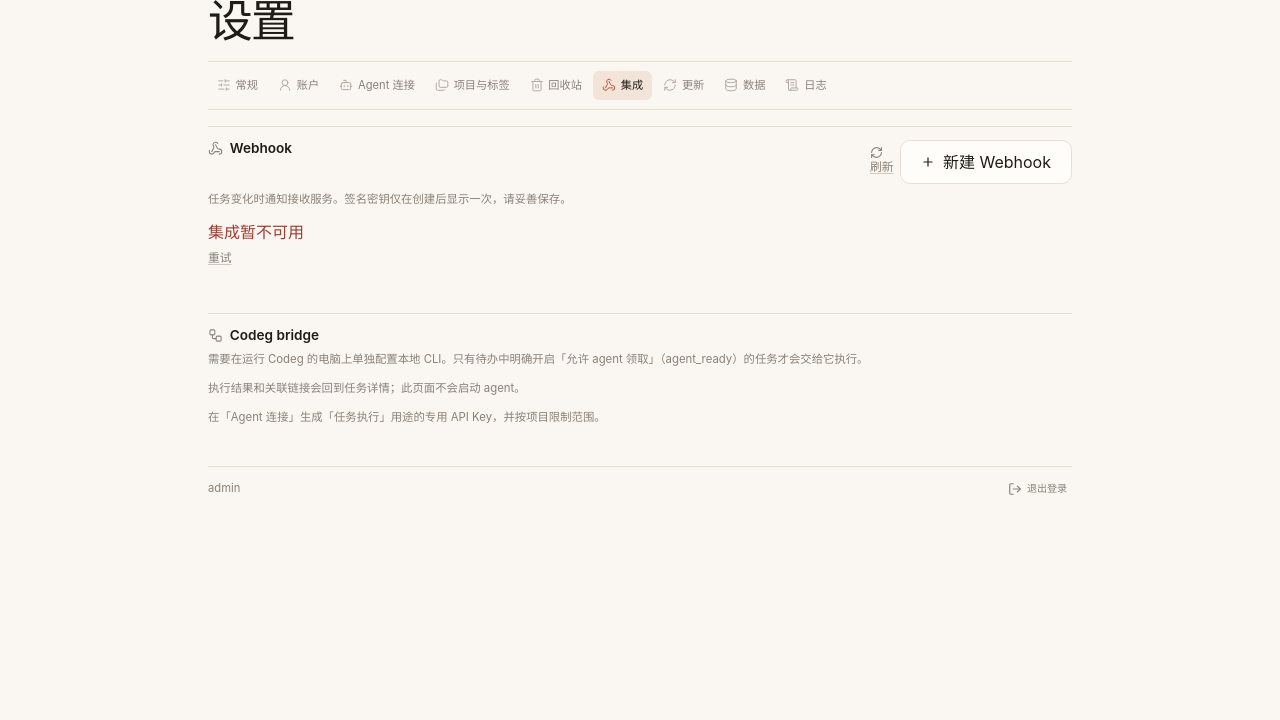
Test: recovers list errors and shows delivery retry status without inventing retry endpoints
This screenshot has width=1280, height=720.
Expected: the message shows "集成暂不可用", [208,222,304,242]
Click the button "重试": click(220, 259) [208,250,232,268]
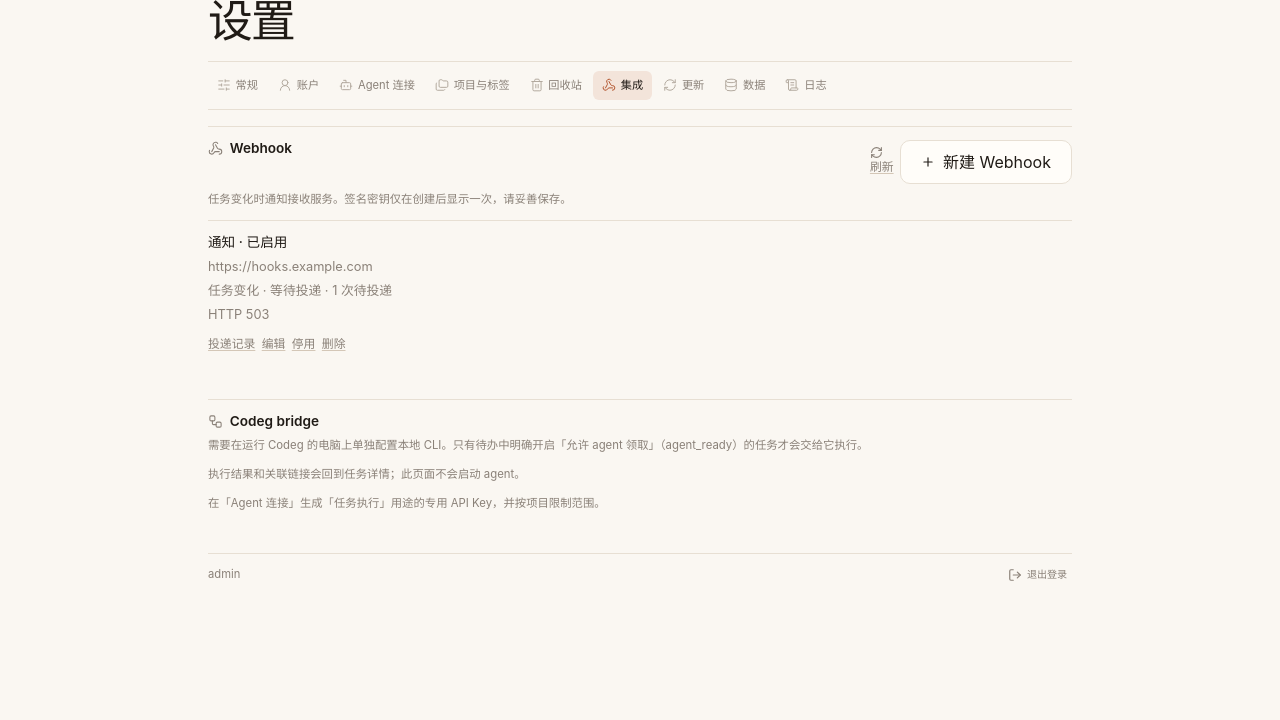
Click the button with aria-label "投递记录 通知": click(232, 345) [208,336,255,354]
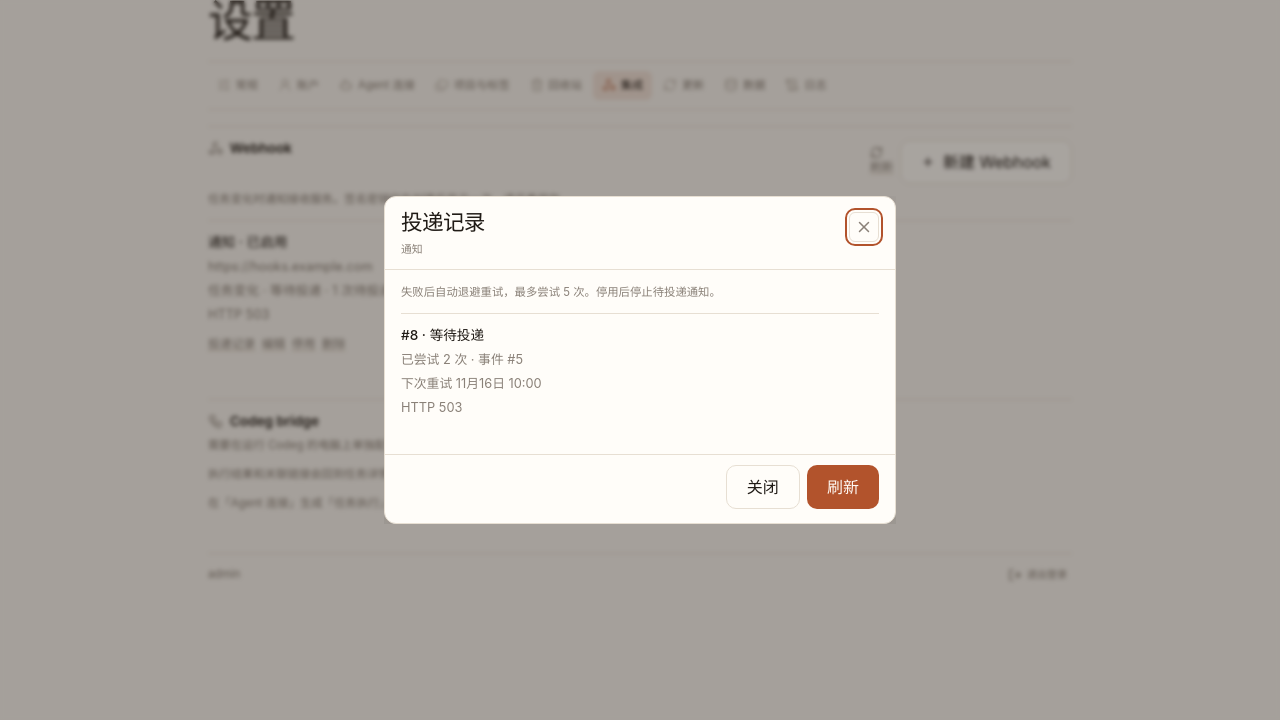
Result: the text "已尝试 2 次 · 事件 #5" is shown at [401,352,523,367]
Result: the text "下次重试" is shown at [401,376,456,391]
Result: the text "HTTP 503" is shown at [401,400,462,415]
Click the button "刷新": click(843, 487) [807,465,879,509]
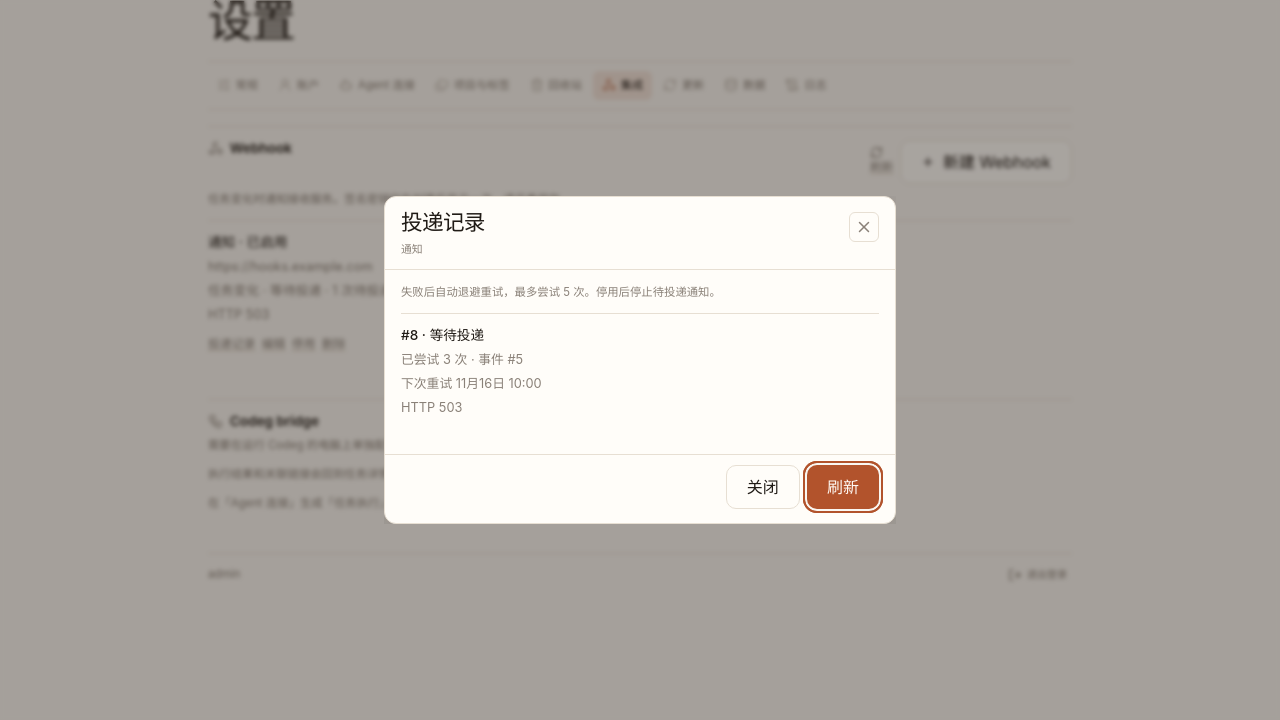
Expected: the text "agent_ready" is shown, [208,438,868,452]
Result: the text "已尝试 3 次 · 事件 #5" is shown at [401,352,523,367]
